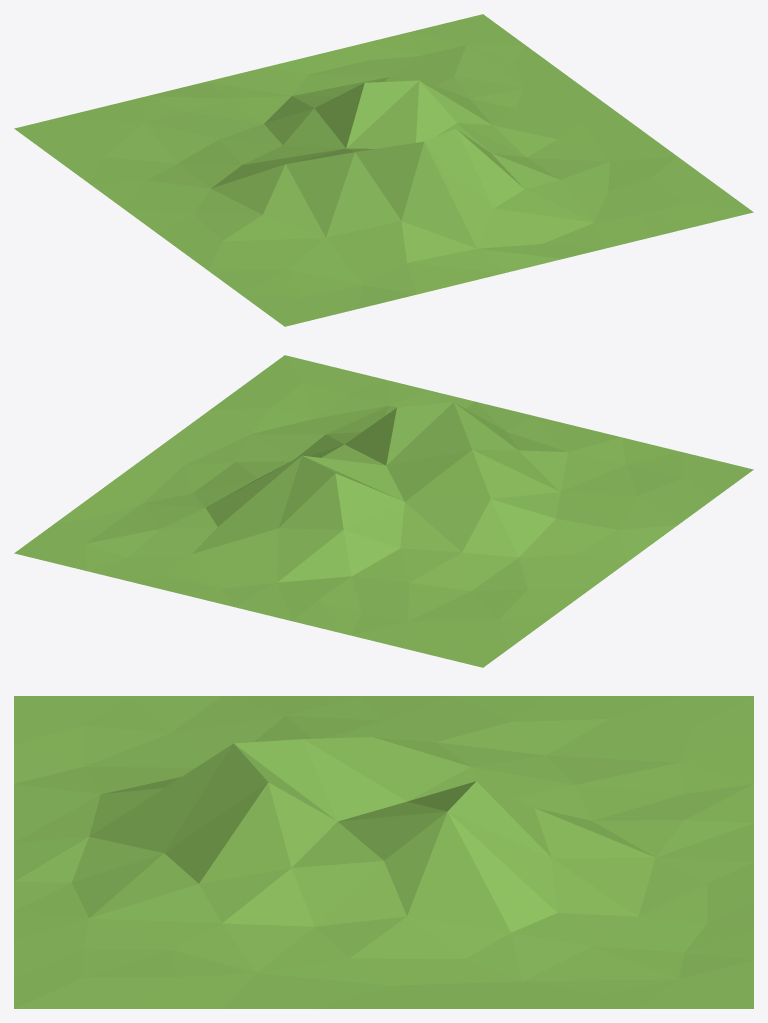
Rendered from MT_Terrain_S_a_22_LOD.fbx.
3 views of the same model, one above another, from view 1: azimuth 30°, elevation 25°; view 2: azimuth 150°, elevation 25°; view 3: azimuth 270°, elevation 25° (orthographic). The views are drawn at different scales.
Parts seen in each view (by area): view 1: MT_Terrain_S_a_22_LOD0; view 2: MT_Terrain_S_a_22_LOD0; view 3: MT_Terrain_S_a_22_LOD0.
Part boxes in pixels (x1,y1,x2,y2): MT_Terrain_S_a_22_LOD0: (14, 14, 753, 326); MT_Terrain_S_a_22_LOD0: (14, 355, 753, 667); MT_Terrain_S_a_22_LOD0: (14, 696, 753, 1008).
Size of what is drawn, in the model's own units: 2500 by 379 by 2500.
